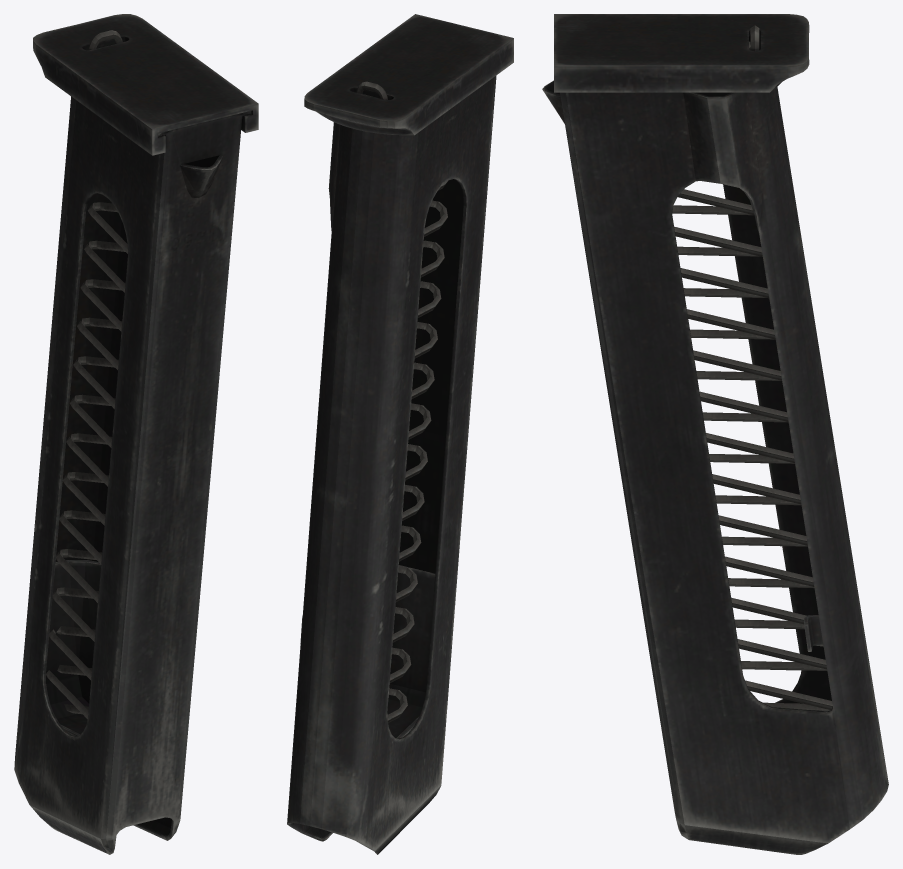
The picture shows the model from 3 angles, left to right: view 1: azimuth 30°, elevation 25°; view 2: azimuth 150°, elevation 25°; view 3: azimuth 270°, elevation 25°; orthographic projection. The views are drawn at different scales.
Visible parts, largest first — view 1: TW_5448c12b4bdc2d02308b456f_PZ_Import; view 2: TW_5448c12b4bdc2d02308b456f_PZ_Import; view 3: TW_5448c12b4bdc2d02308b456f_PZ_Import.
Boxes of the visible parts, left/top/right/bottom form: TW_5448c12b4bdc2d02308b456f_PZ_Import: left=14, top=14, right=258, bottom=854; TW_5448c12b4bdc2d02308b456f_PZ_Import: left=287, top=14, right=513, bottom=854; TW_5448c12b4bdc2d02308b456f_PZ_Import: left=542, top=14, right=888, bottom=854.
Size of the model in its own units: 0.00899 by 0.025 by 0.0646.
Materials: 1 (1 with a texture image).
